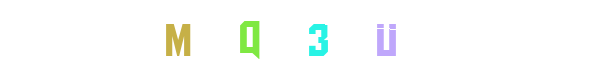3: (279, 0, 359, 80)
M: (170, 0, 250, 80)
Q: (266, 0, 346, 80)
U: (346, 0, 426, 80)
